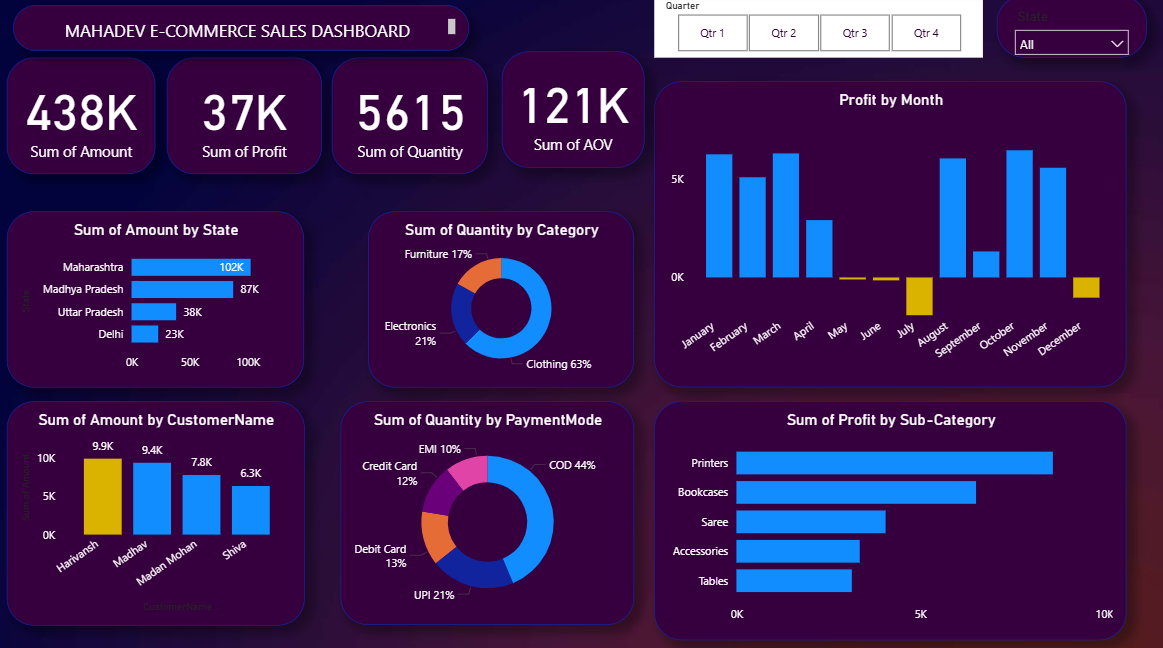

The dashboard page shown, as its layout file describes it:
{"tool":"powerbi","page":{"name":"Page 1","canvas":[1280,720],"ordinal":0},"visuals":[{"type":"columnChart","title":" Profit by Month","fields":{"Y":["Sum(Details.Profit)"],"Category":["Orders (1).Order Date.Variation.Date Hierarchy.Month"]},"box":[720.4,94.7,518.7,336.2],"z":1},{"type":"barChart","fields":{"Category":["Details.Sub-Category"],"Y":["Sum(Details.Profit)"]},"box":[720.4,446,518.7,262.1],"z":2},{"type":"donutChart","fields":{"Category":["Details.Category"],"Y":["Sum(Details.Quantity)"]},"box":[406.2,237.4,292.3,193.5],"z":3},{"type":"donutChart","fields":{"Y":["Sum(Details.Quantity)"],"Category":["Details.PaymentMode"]},"box":[376,446,322.5,245.6],"z":4},{"type":"card","fields":{"Values":["Sum(Details.Amount)"]},"box":[9.6,68.6,163.3,127.6],"z":5},{"type":"card","fields":{"Values":["Sum(Details.Profit)"]},"box":[185.2,68.6,170.2,127.6],"z":6},{"type":"card","fields":{"Values":["Sum(Details.Quantity)"]},"box":[366.4,68.6,171.5,127.6],"z":7},{"type":"card","fields":{"Values":["Sum(Details.AOV)"]},"box":[553,61.7,156.4,127.6],"z":8},{"type":"barChart","fields":{"Category":["Orders (1).State"],"Y":["Sum(Details.Amount)"]},"box":[9.6,237.4,326.6,193.5],"z":9},{"type":"columnChart","fields":{"Category":["Orders (1).CustomerName"],"Y":["Sum(Details.Amount)"]},"box":[10,446,327,246],"z":10},{"type":"textbox","box":[16.5,11,500.9,50.8],"z":11},{"type":"slicer","fields":{"Values":["Orders (1).Order Date.Variation.Date Hierarchy.Quarter"]},"box":[720.4,0,360.9,68.6],"z":12},{"type":"slicer","fields":{"Values":["Orders (1).State"]},"box":[1096.4,0,164.7,68.6],"z":13}]}

Visuals, with their boxes in screenshot pixels (x1, y1, x2, y2), scaled from the page's 1280x720 canvas onto the 1163x648 screenshot:
" Profit by Month" columnChart: BBox(655, 85, 1126, 388)
barChart - Details.Sub-Category x Sum(Details.Profit): BBox(655, 401, 1126, 637)
donutChart - Details.Category x Sum(Details.Quantity): BBox(369, 214, 635, 388)
donutChart - Sum(Details.Quantity) x Details.PaymentMode: BBox(342, 401, 635, 622)
card - Sum(Details.Amount): BBox(9, 62, 157, 177)
card - Sum(Details.Profit): BBox(168, 62, 323, 177)
card - Sum(Details.Quantity): BBox(333, 62, 489, 177)
card - Sum(Details.AOV): BBox(502, 56, 645, 170)
barChart - Orders (1).State x Sum(Details.Amount): BBox(9, 214, 305, 388)
columnChart - Orders (1).CustomerName x Sum(Details.Amount): BBox(9, 401, 306, 623)
textbox: BBox(15, 10, 470, 56)
slicer - Orders (1).Order Date.Variation.Date Hierarchy.Quarter: BBox(655, 0, 982, 62)
slicer - Orders (1).State: BBox(996, 0, 1146, 62)
